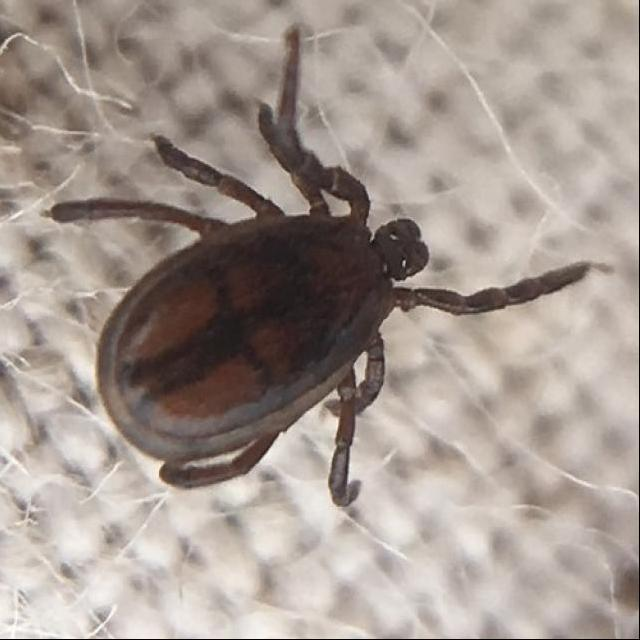Ixodes Ricinus-M: (47, 29, 595, 511)
